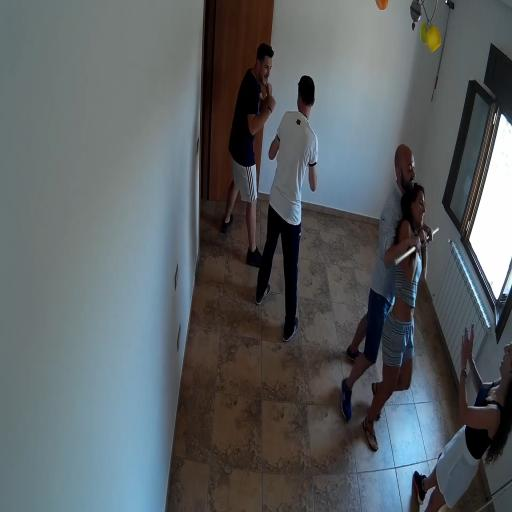violencia: (330, 122, 444, 456), (218, 33, 324, 348)
